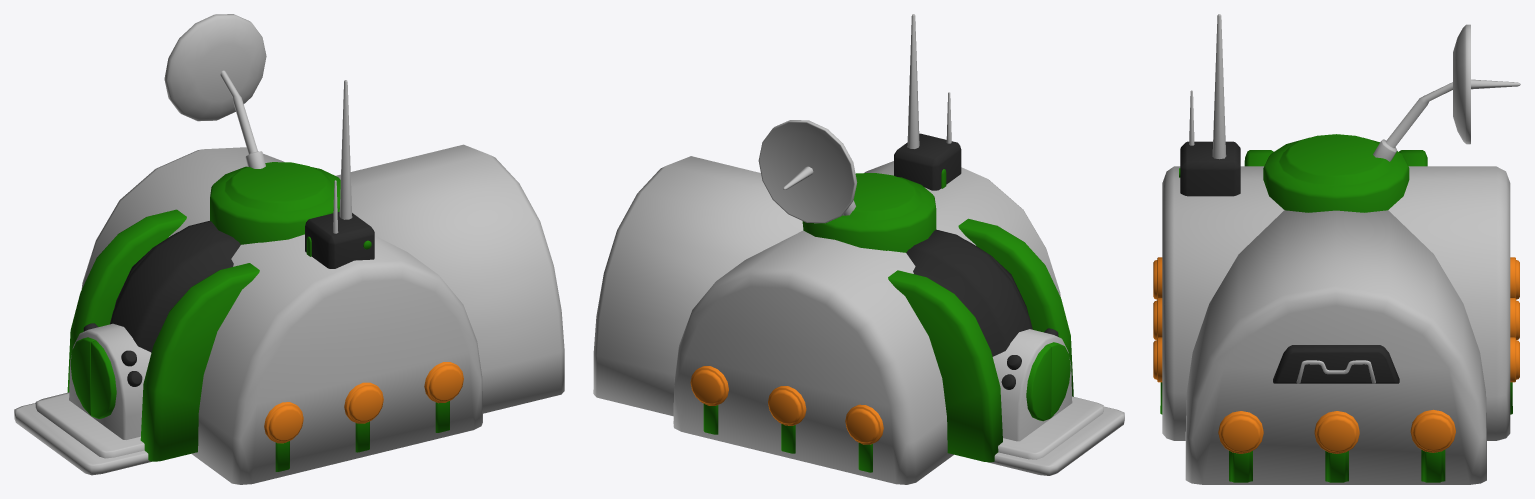
3 renders of one model, left to right at view 1: azimuth 30°, elevation 25°; view 2: azimuth 150°, elevation 25°; view 3: azimuth 270°, elevation 25°, orthographic. The views are drawn at different scales.
Visible parts, largest first — view 1: Home_colonists.002; view 2: Home_colonists.002; view 3: Home_colonists.002.
Part boxes in pixels (bbox=[...]): Home_colonists.002: bbox=[14, 14, 564, 484]; Home_colonists.002: bbox=[593, 14, 1124, 484]; Home_colonists.002: bbox=[1153, 14, 1520, 484].
Bounding box in the file's own units: 18.42 × 13.57 × 12.27.
